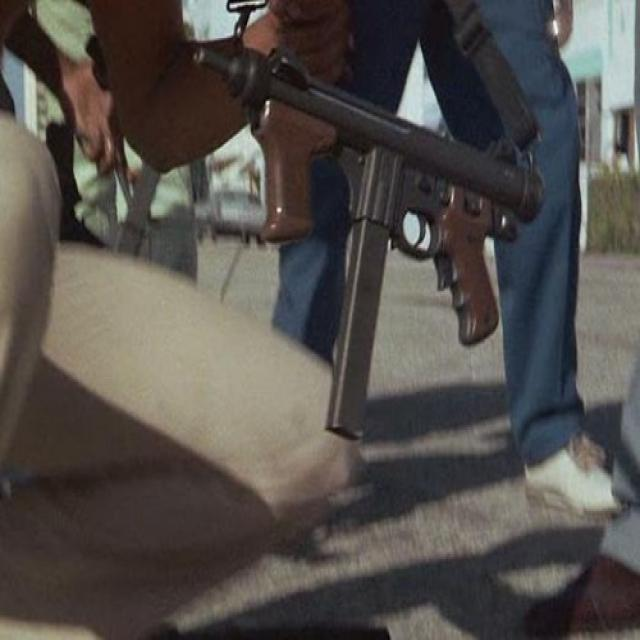rifle: (194, 33, 546, 452)
